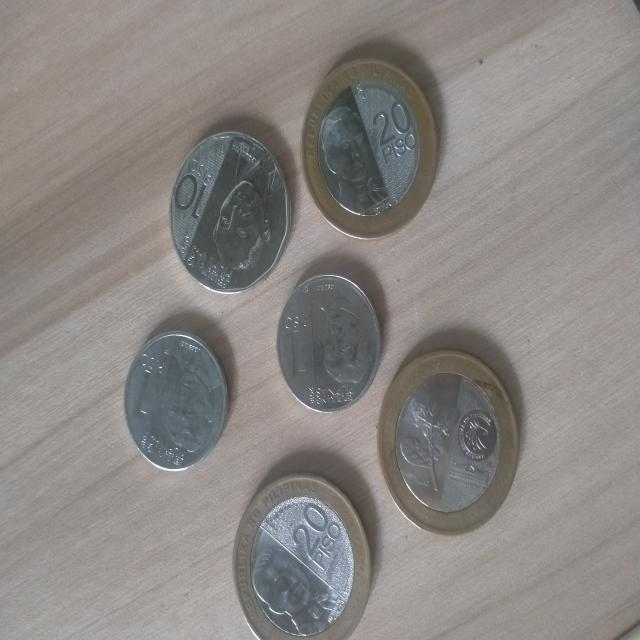10_New_Front: (170, 149, 214, 226)
20_New_Back: (393, 369, 458, 511)
20_New_Front: (285, 496, 348, 572), (372, 92, 422, 166)
